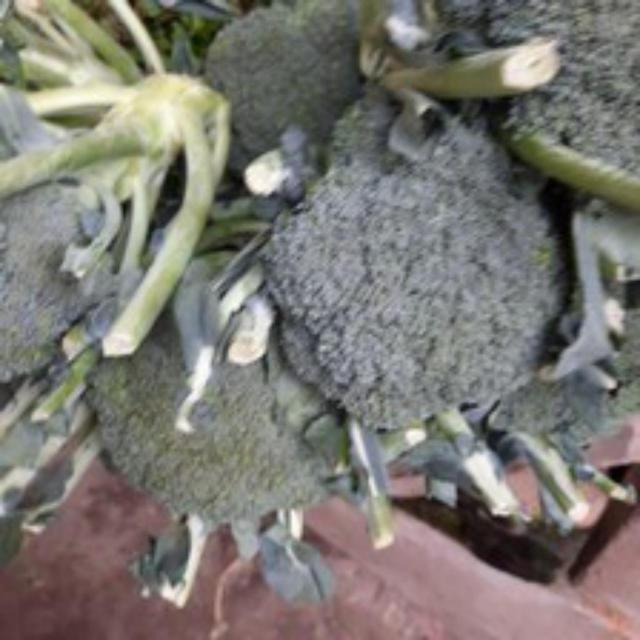broccoli: (245, 99, 572, 435)
